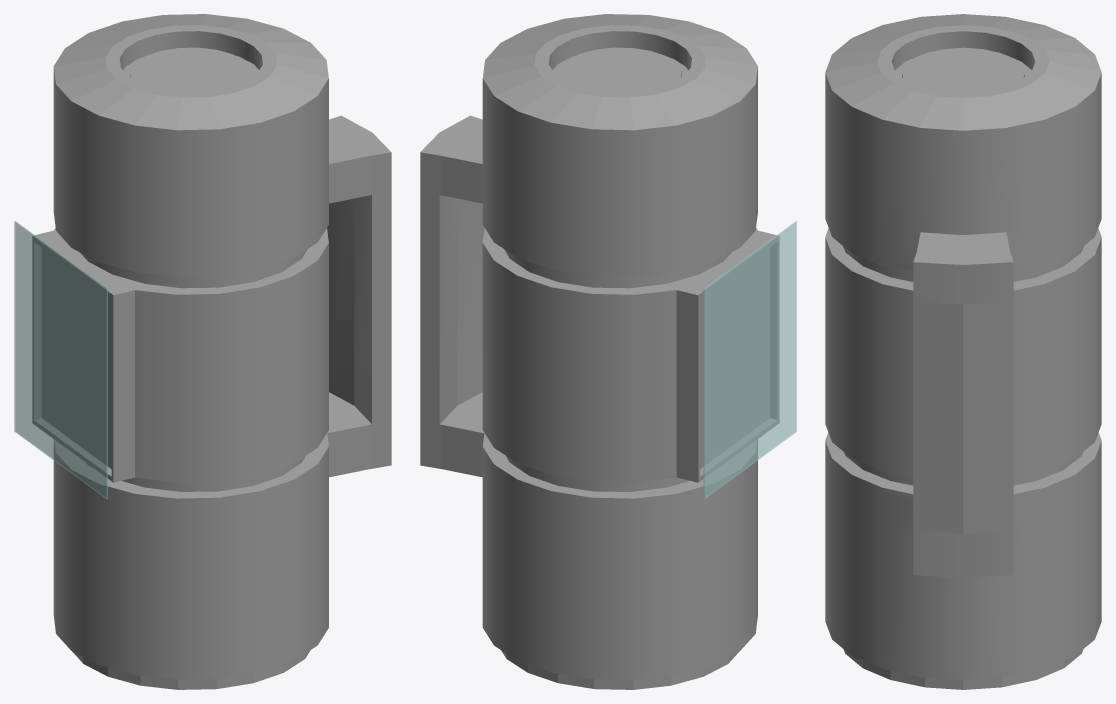
Rendered from Power_Cell.fbx.
The picture shows the model from 3 angles, left to right: view 1: azimuth 30°, elevation 25°; view 2: azimuth 150°, elevation 25°; view 3: azimuth 270°, elevation 25°; orthographic projection.
Visible parts, largest first — view 1: pCylinder1, pCube1; view 2: pCylinder1, pCube1; view 3: pCylinder1.
Boxes of the visible parts, x1,y1,x2,y2 form: pCylinder1: (32,14,391,689); pCube1: (14,221,107,498); pCylinder1: (420,14,779,689); pCube1: (703,221,796,499); pCylinder1: (825,14,1101,689).
Size of the model in its own units: 12.89 by 22.79 by 9.92.
